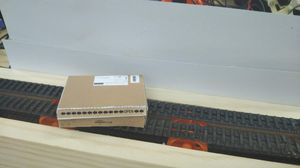box2: (53, 72, 147, 128)
